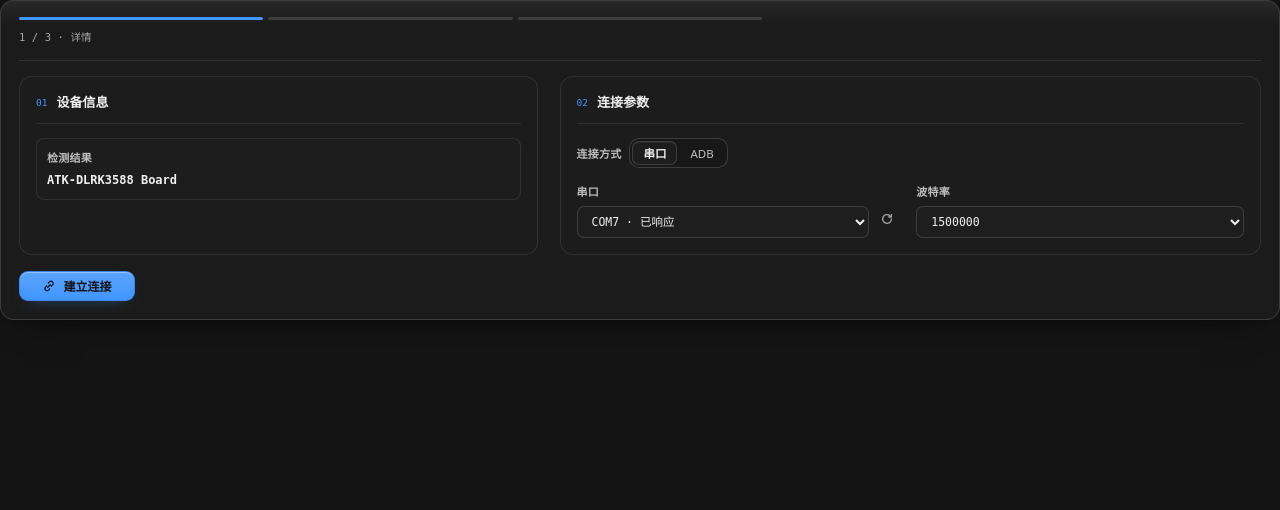
Test case: the board setup wizard › submits the selected serial port, and the waiting text says "establish the connection"
Select "COM3" in the dropdown labelled "串口": (723, 222) [576,206,869,238]
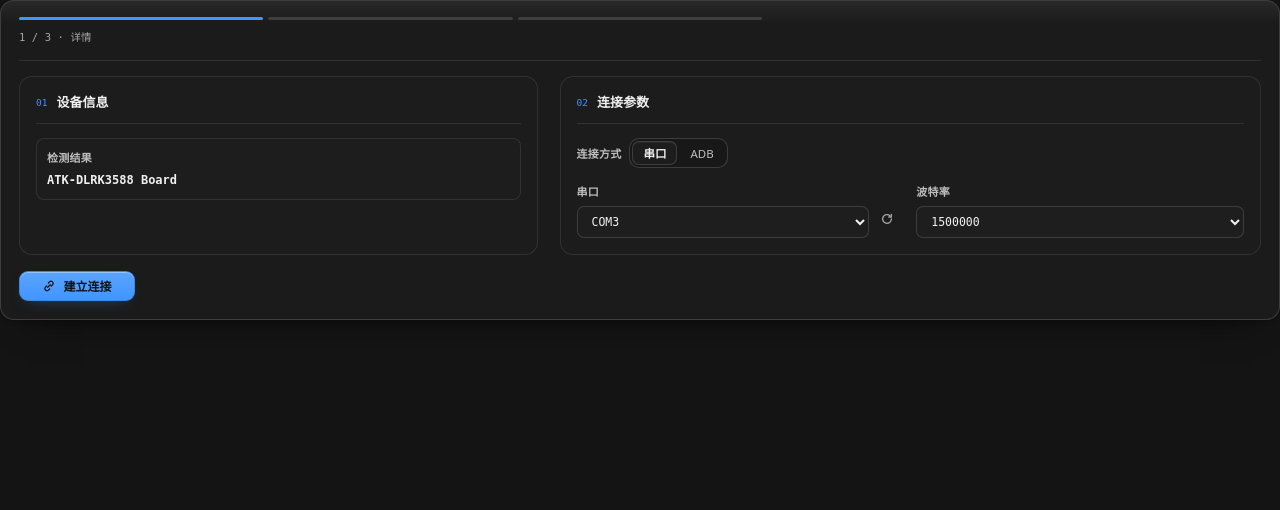
Click the button "建立连接": (77, 286) [19,271,135,301]
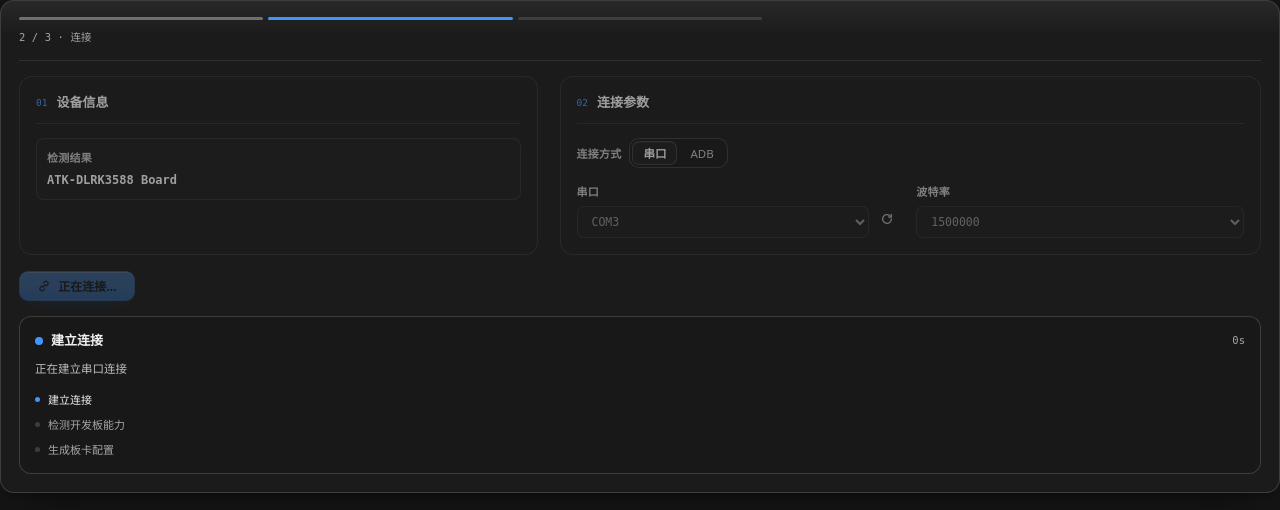
Expected: the text with class "wizard-wait__title" reads "建立连接", [51,331,103,349]
